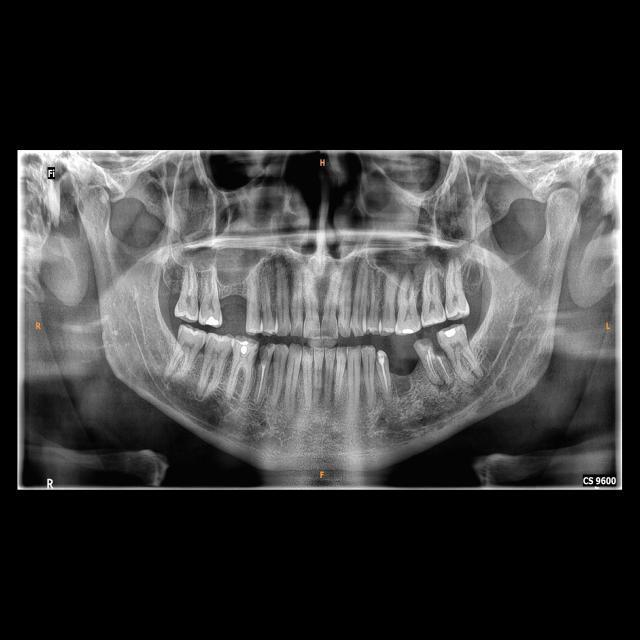dentin-curugu: (419, 336, 446, 359), (254, 338, 272, 363)
dolgu: (230, 336, 256, 356), (200, 310, 222, 330), (442, 323, 463, 341)
kanal-tedavisi: (372, 352, 393, 390), (425, 350, 448, 383), (258, 364, 268, 398)
